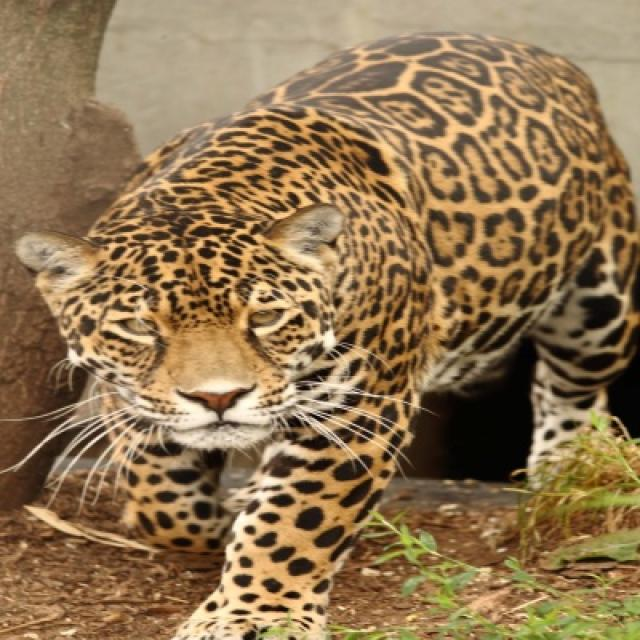Jaguar: (14, 32, 638, 638)
